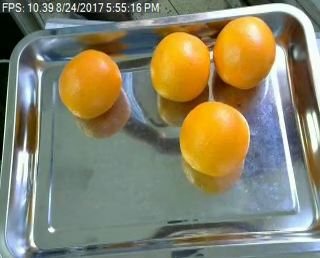Orange: (179, 99, 251, 177), (212, 14, 275, 88), (58, 49, 123, 118), (147, 30, 210, 101)
